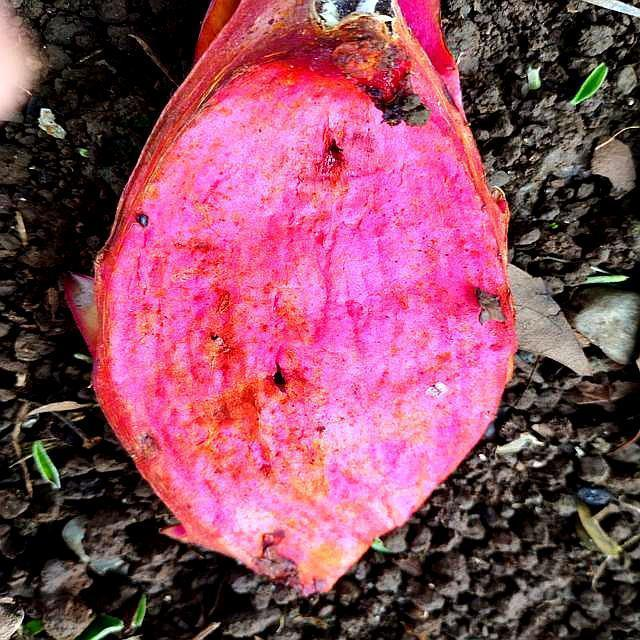Biodegradable: (97, 1, 515, 581)
